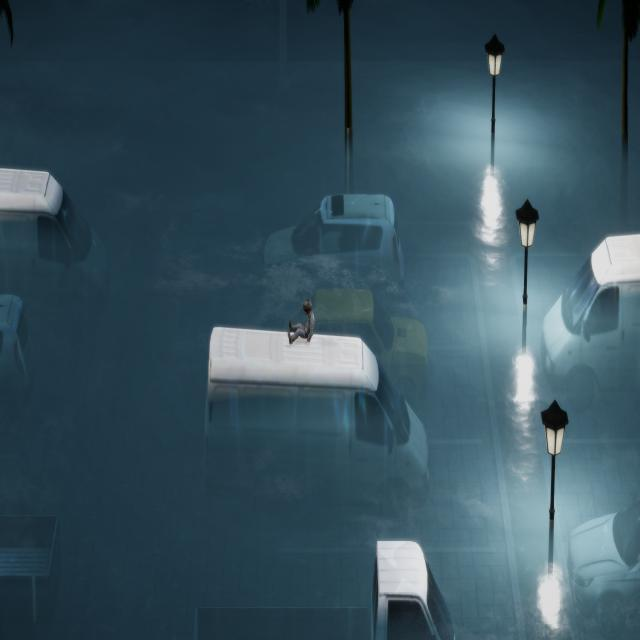Human: (283, 296, 319, 356)
